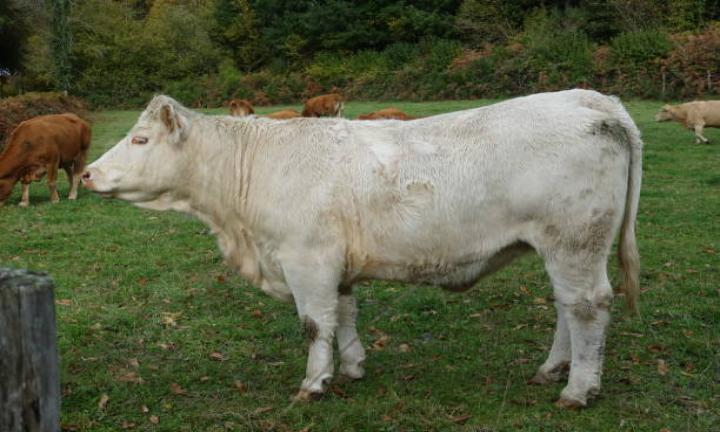Charolais: (81, 89, 642, 406)
